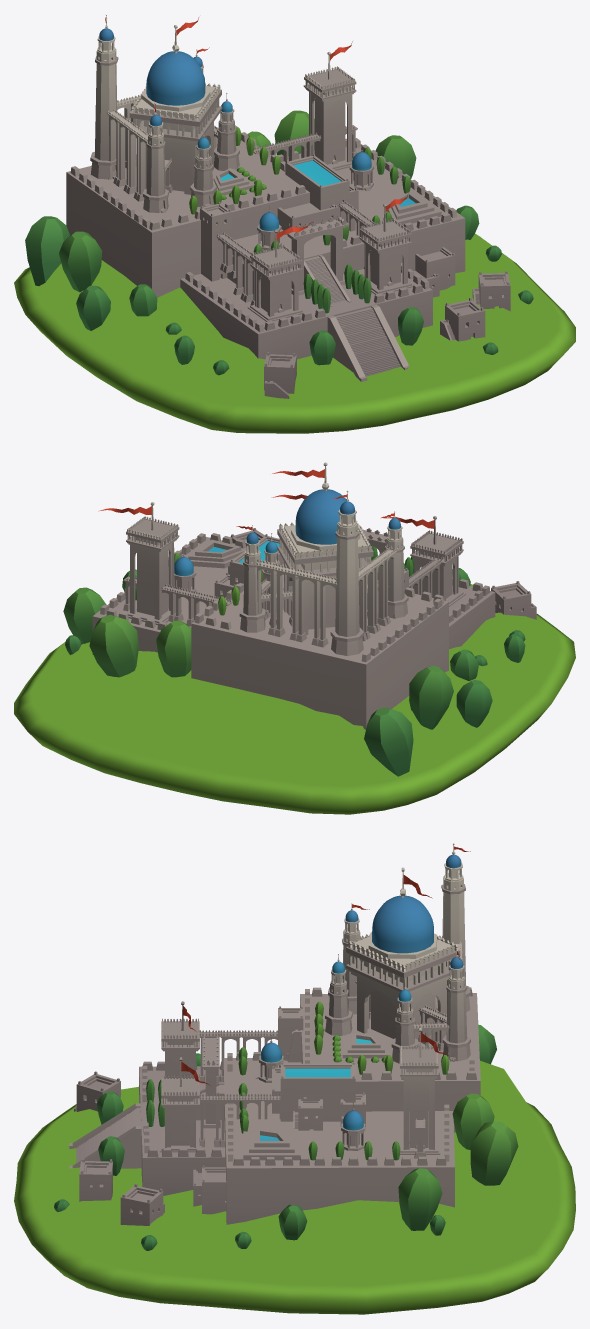
The model's file is castle.FBX.
The picture shows the model from 3 angles, top to bottom: view 1: azimuth 30°, elevation 25°; view 2: azimuth 150°, elevation 25°; view 3: azimuth 270°, elevation 25°; orthographic projection. The views are drawn at different scales.
Visible parts, largest first — view 1: Castle; view 2: Castle; view 3: Castle.
Boxes of the visible parts, x1=… form: Castle: x1=14, y1=15, x2=575, y2=433; Castle: x1=14, y1=462, x2=575, y2=814; Castle: x1=14, y1=843, x2=575, y2=1314.
Size of the model in its own units: 239012 by 153830 by 257069.
Materials: 1 (1 with a texture image).
